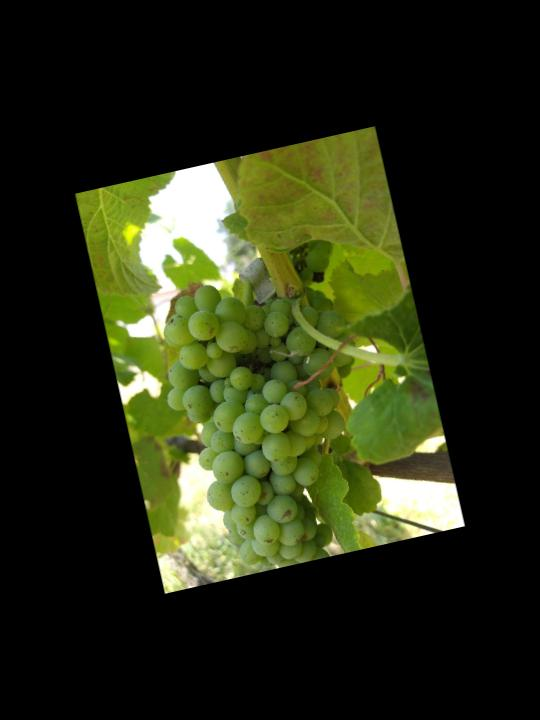grape: (144, 256, 400, 583)
